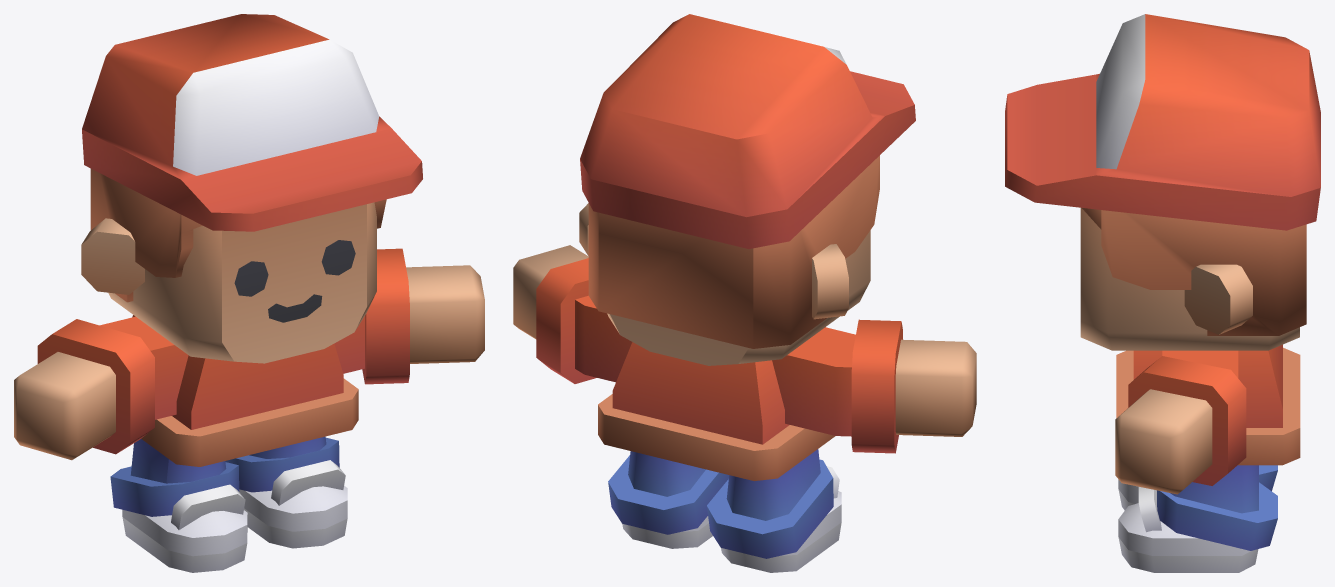
Rendered from character-skate-boy.obj.
3 renders of one model, left to right at view 1: azimuth 30°, elevation 25°; view 2: azimuth 150°, elevation 25°; view 3: azimuth 270°, elevation 25°, orthographic.
Visible parts, largest first — view 1: head-mesh, body-mesh; view 2: head-mesh, body-mesh; view 3: head-mesh, body-mesh.
Boxes of the visible parts, x1=… form: head-mesh: x1=81, y1=14, x2=422, y2=363; body-mesh: x1=14, y1=248, x2=484, y2=572; head-mesh: x1=579, y1=14, x2=915, y2=365; body-mesh: x1=513, y1=245, x2=976, y2=572; head-mesh: x1=1005, y1=14, x2=1320, y2=350; body-mesh: x1=1115, y1=344, x2=1300, y2=572.
Bounding box in the file's own units: 0.7672 × 0.7798 × 0.461.
Materials: 1 (1 with a texture image).
